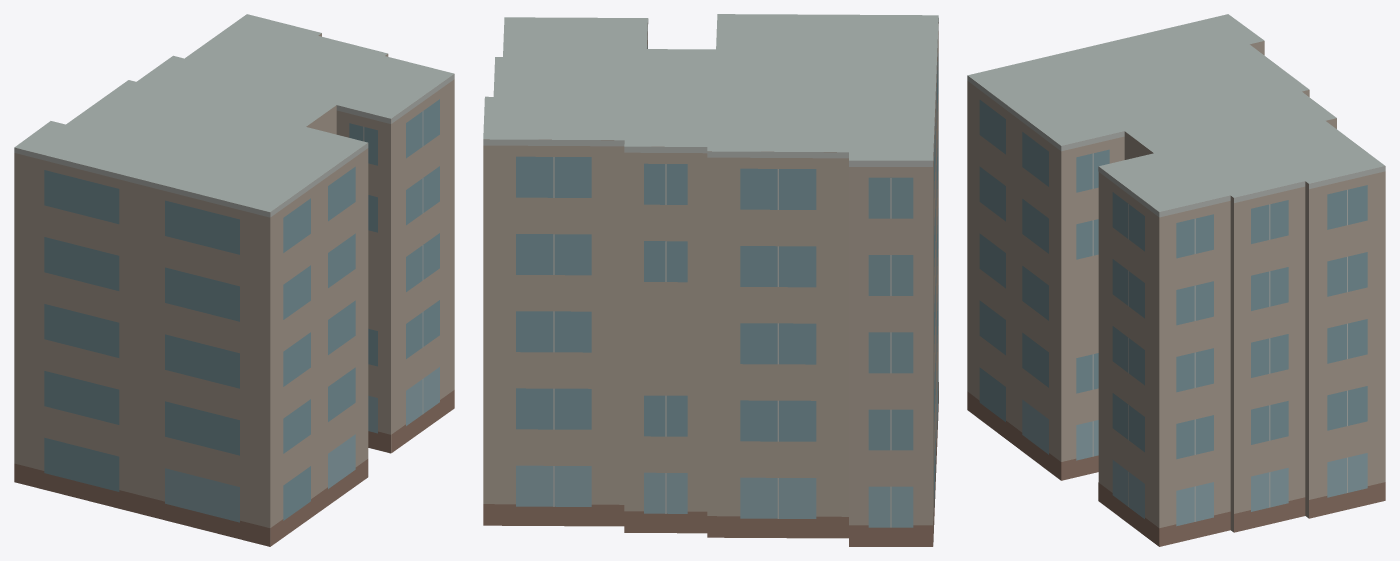
The model's file is survey-upis-32759467.glb.
3 views of the same model, side by side, from view 1: azimuth 30°, elevation 25°; view 2: azimuth 150°, elevation 25°; view 3: azimuth 270°, elevation 25° (orthographic). The views are drawn at different scales.
Visible parts, largest first — view 1: survey-upis-32759467.tmp; view 2: survey-upis-32759467.tmp; view 3: survey-upis-32759467.tmp.
Part boxes in pixels (bbox=[...]): survey-upis-32759467.tmp: bbox=[14, 14, 454, 546]; survey-upis-32759467.tmp: bbox=[483, 14, 938, 546]; survey-upis-32759467.tmp: bbox=[967, 14, 1385, 546].
Size of the model in its own units: 19.43 by 15.3 by 17.33.
